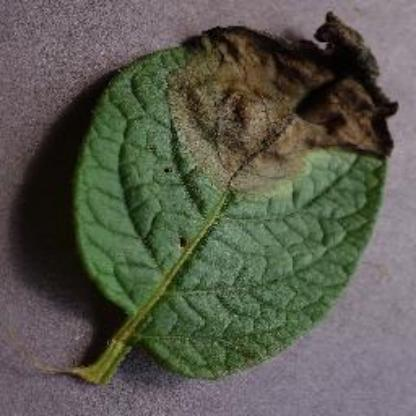Late-Blight: (75, 14, 390, 388)
